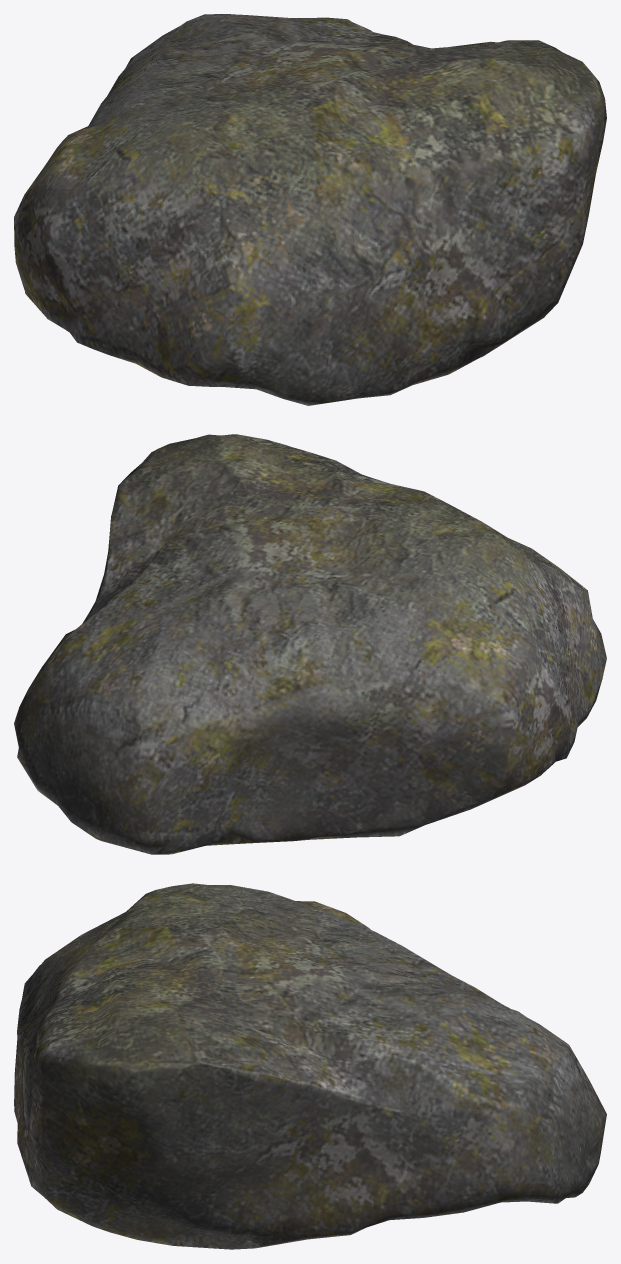
Rendered from Rock02.fbx.
3 renders of one model, top to bottom at view 1: azimuth 30°, elevation 25°; view 2: azimuth 150°, elevation 25°; view 3: azimuth 270°, elevation 25°, orthographic. The views are drawn at different scales.
Parts seen in each view (by area): view 1: Rock02; view 2: Rock02; view 3: Rock02.
Boxes of the visible parts, x1,y1,x2,y2 form: Rock02: (14,14,606,405); Rock02: (14,434,606,854); Rock02: (14,883,606,1249).
Bounding box in the file's own units: 48.31 × 23.68 × 52.62.
1 material, 1 textured.
